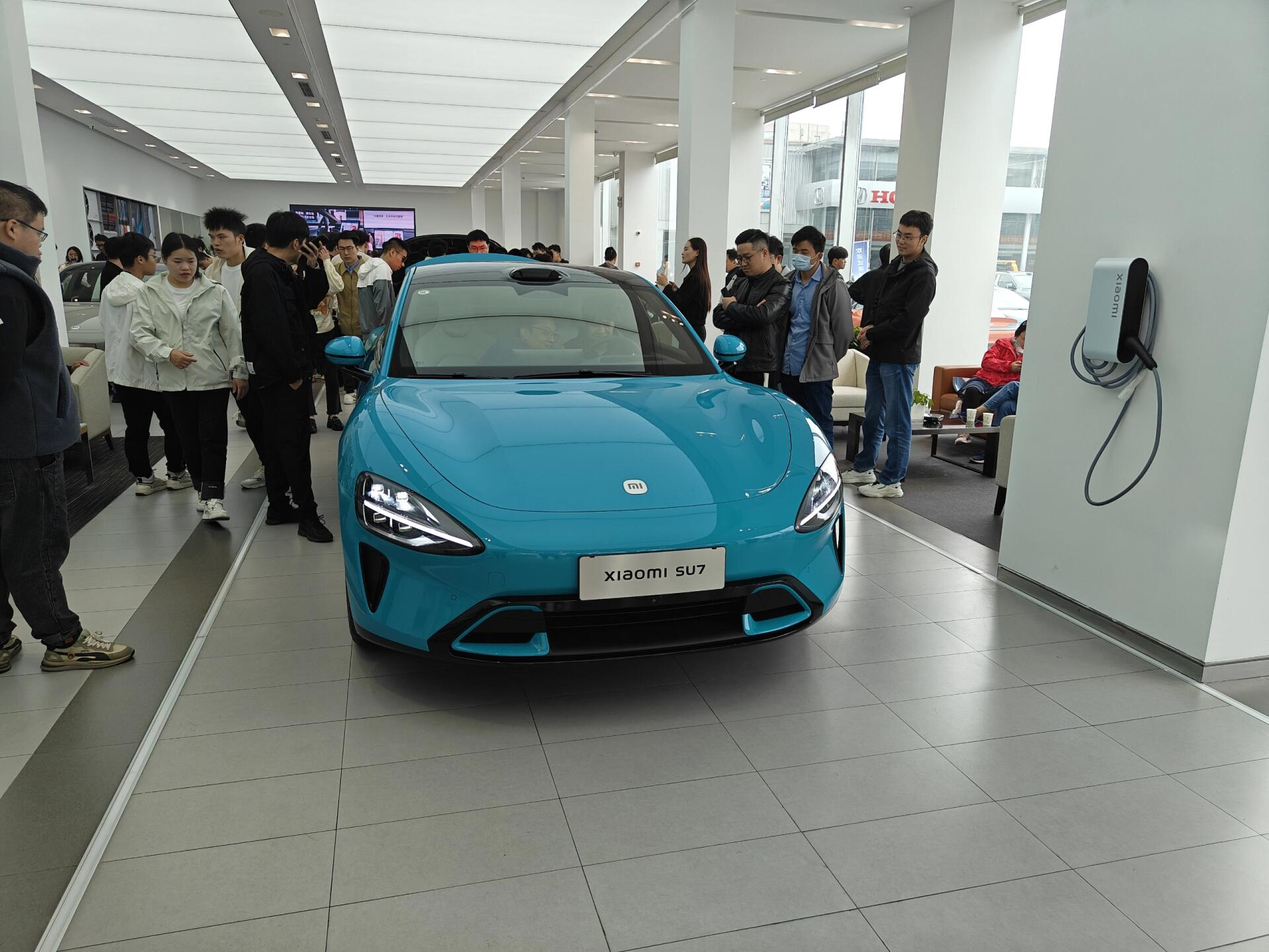su7: (333, 239, 849, 664)
